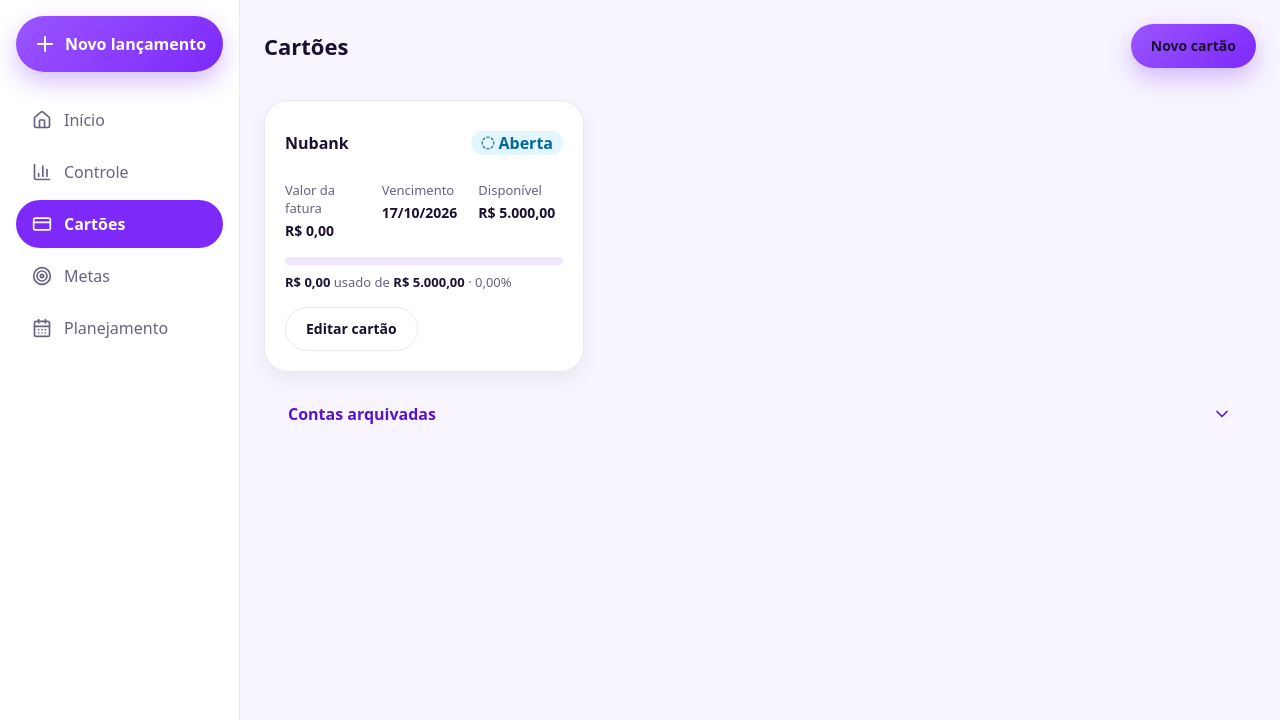
Test case: formulário Despesa no cartão (CA-4.08) › abre com valor, data, descrição, categoria, cartão e fatura, sem os detalhes
The image size is (1280, 720).
Check: the heading "Cartões" is shown, box [264,31,348,61]
Click the button "Novo lançamento" at (120, 44), box [16,16,223,72]
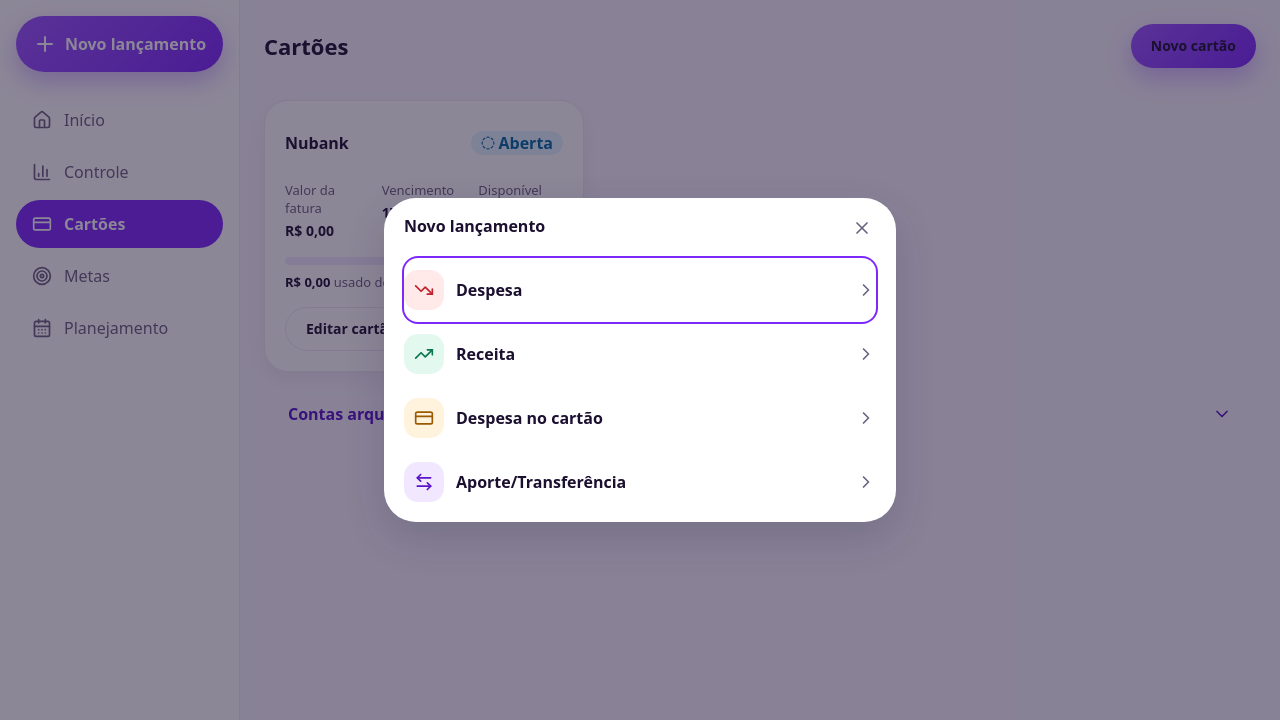
Click the button "Despesa no cartão" at (424, 418), box [404,386,876,450]
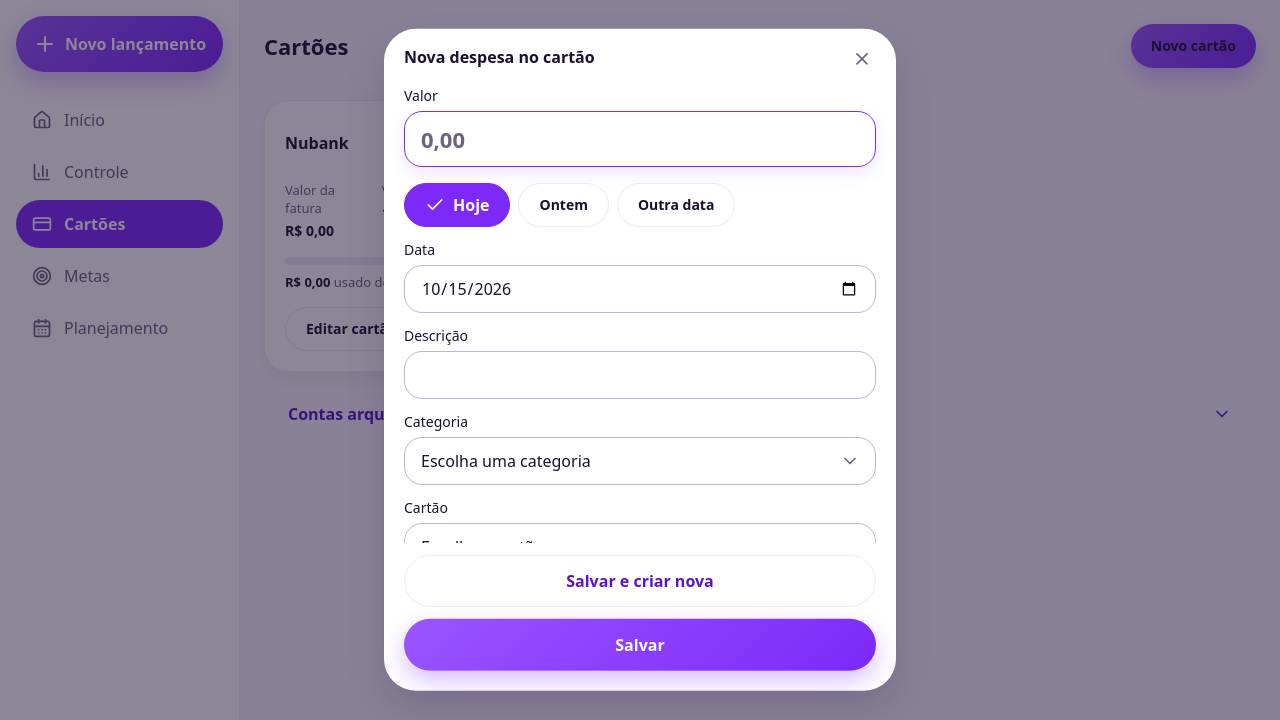
Check: the field labelled "Valor" is shown, box [404,111,876,167]
Check: the date field labelled "Data" is shown, box [404,265,876,313]
Check: the field labelled "Descrição" is shown, box [404,351,876,399]
